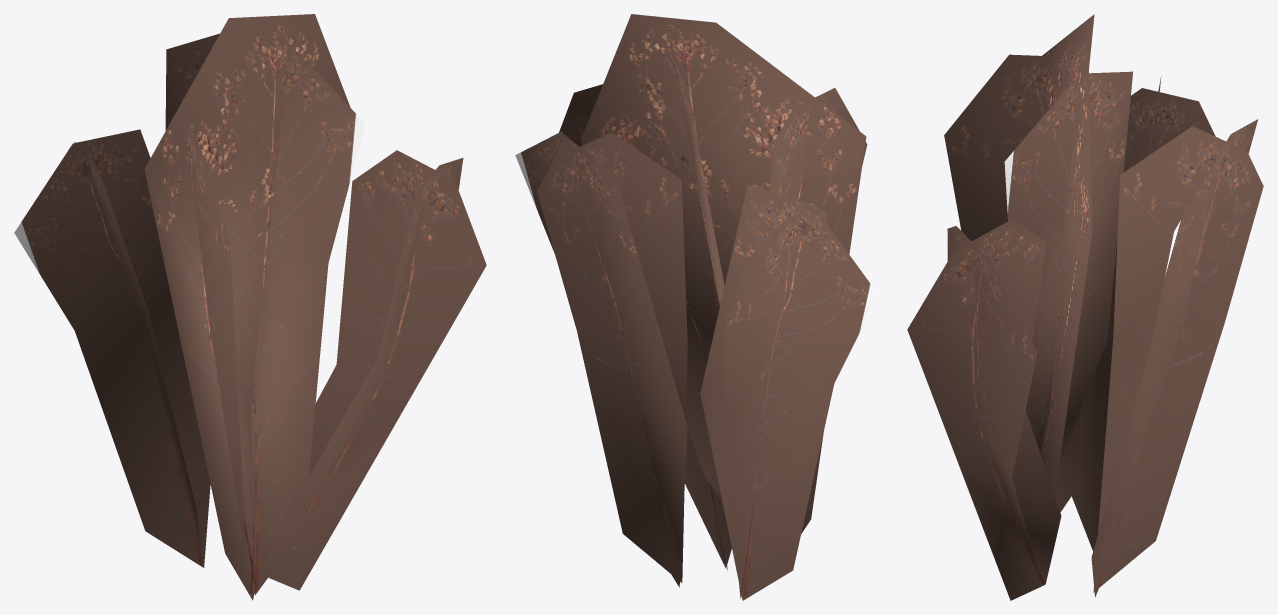
File: Grass_C_2.fbx
The picture shows the model from 3 angles, left to right: view 1: azimuth 30°, elevation 25°; view 2: azimuth 150°, elevation 25°; view 3: azimuth 270°, elevation 25°; orthographic projection. The views are drawn at different scales.
Parts seen in each view (by area): view 1: Grass_C_2; view 2: Grass_C_2; view 3: Grass_C_2.
Part boxes in pixels (x1=…): Grass_C_2: x1=14, y1=14, x2=486, y2=600; Grass_C_2: x1=515, y1=14, x2=878, y2=600; Grass_C_2: x1=907, y1=14, x2=1263, y2=600.
Size of the model in its own units: 0.794 by 1.09 by 0.6168.
